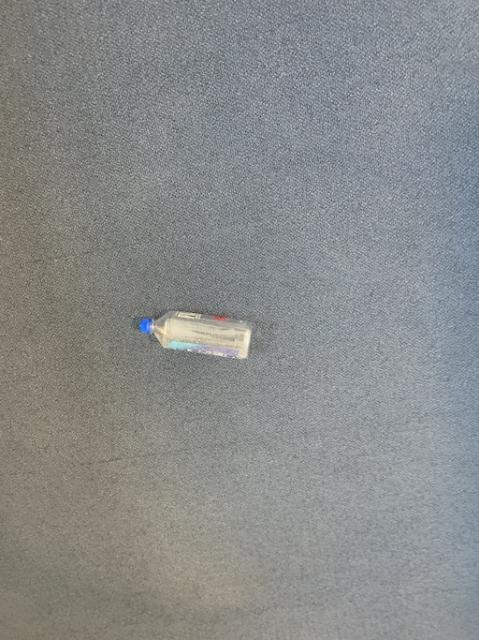plastic: (139, 310, 250, 357)
